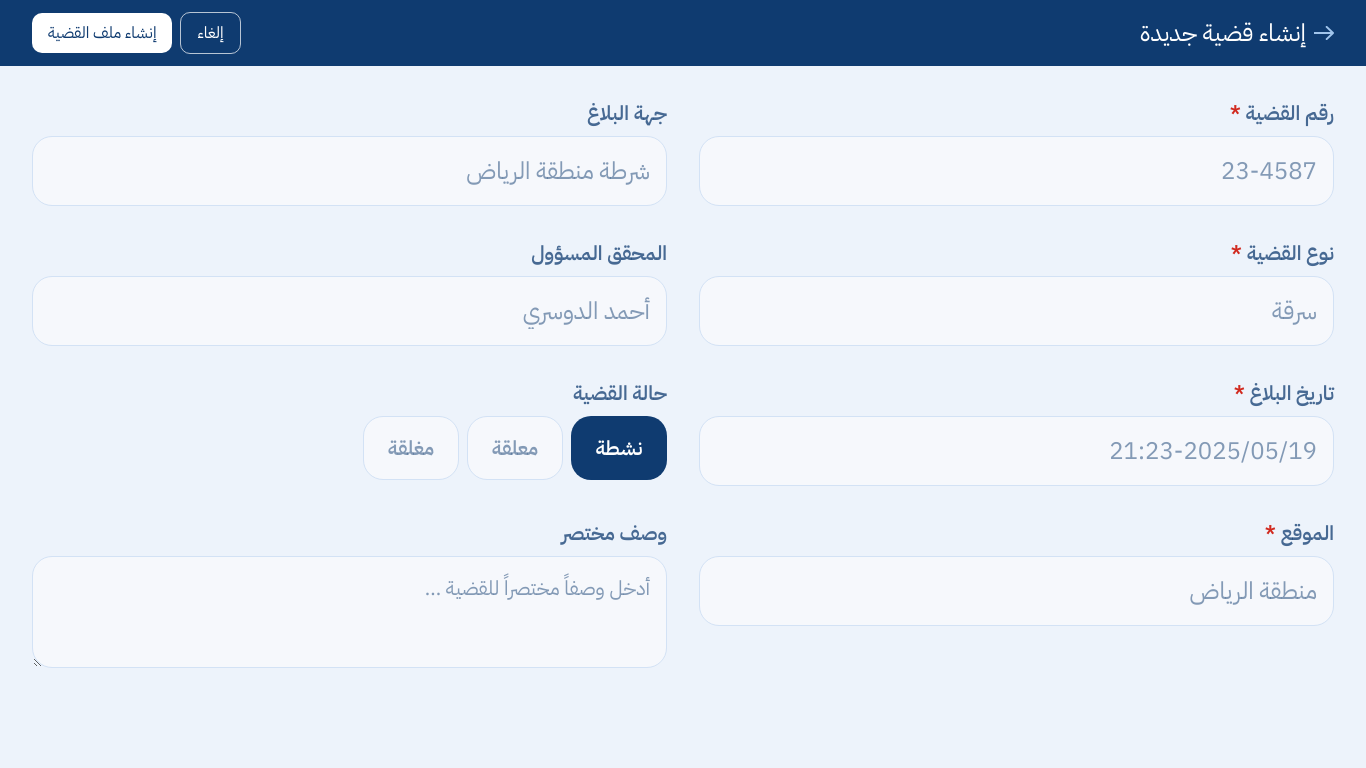
Test: create case › shows an error on every required field and does not create
Click the button "إنشاء ملف القضية". click: x=102, y=33
box: [32, 13, 172, 53]
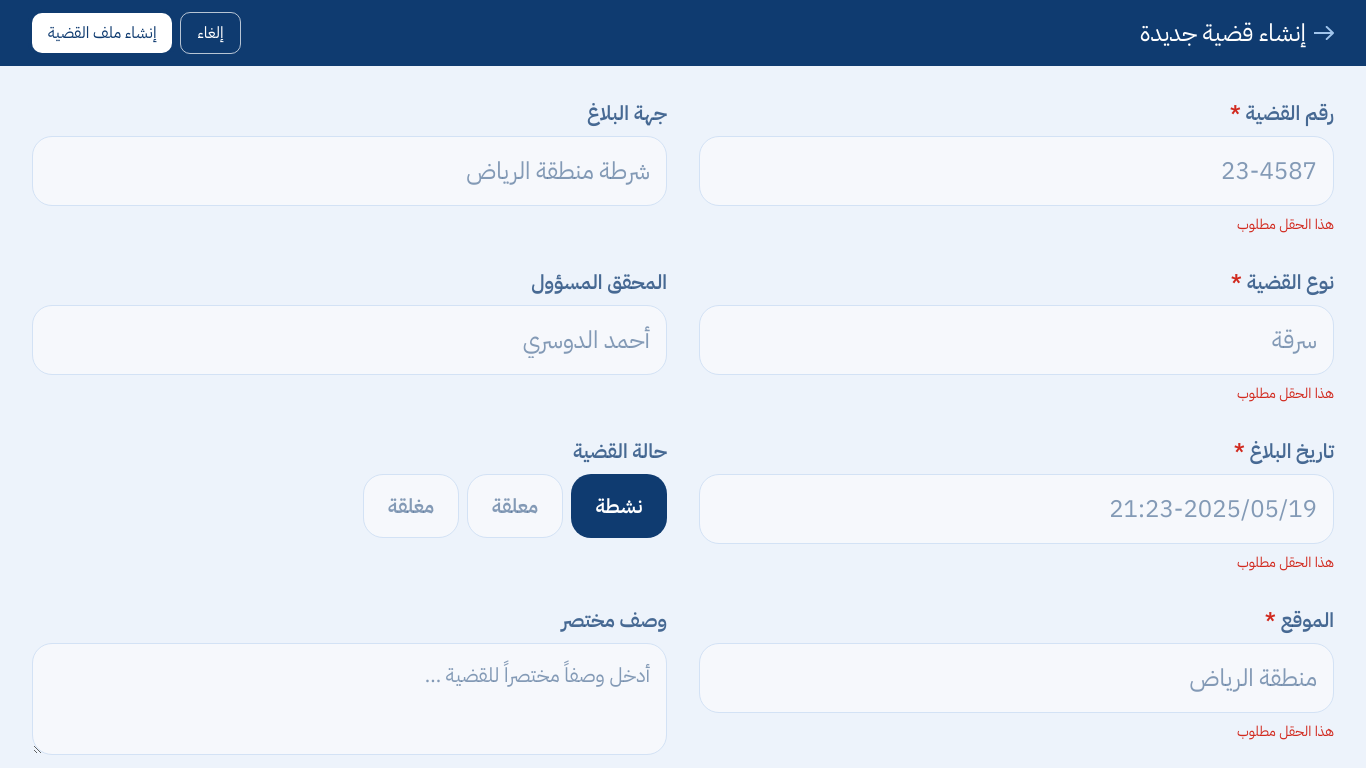
Result: the number of messages is 4 at [1237, 214, 1334, 235]; [1237, 383, 1334, 404]; [1237, 552, 1334, 573]; [1237, 721, 1334, 742]
